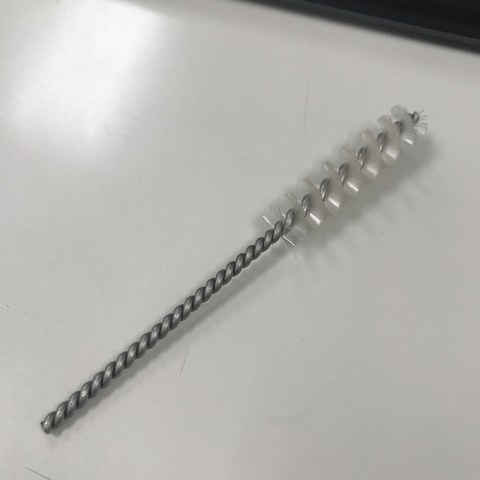Twist Brush-B: (36, 102, 429, 434)
